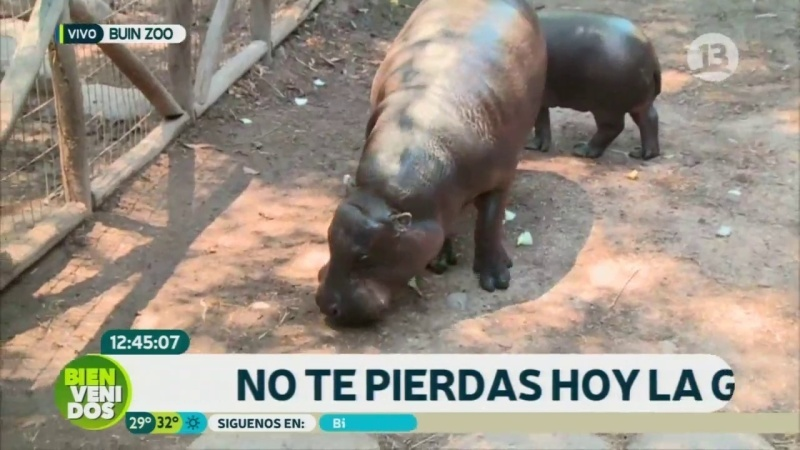hipopotamo: (305, 1, 540, 341), (513, 1, 692, 181)
